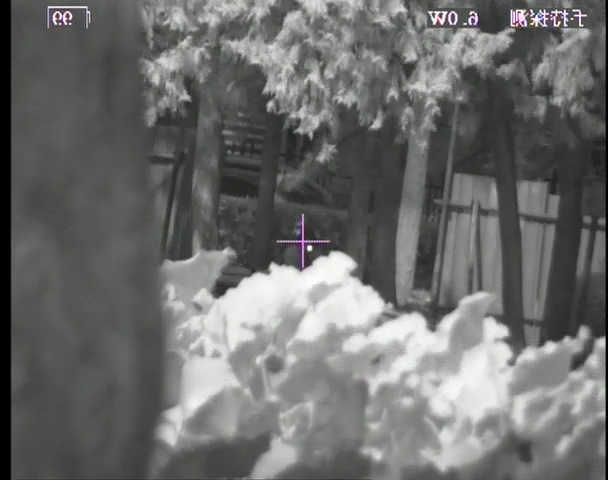my: (306, 243, 315, 254)
